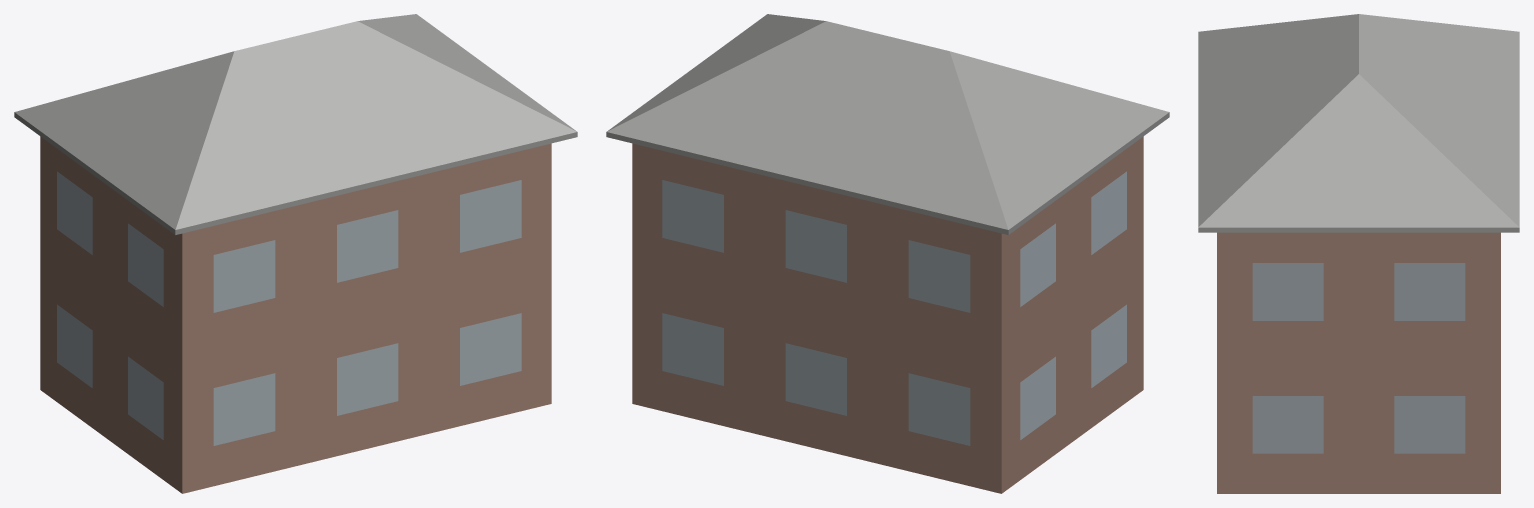
The model's file is 10_traditional_houses-06.glb.
3 renders of one model, left to right at view 1: azimuth 30°, elevation 25°; view 2: azimuth 150°, elevation 25°; view 3: azimuth 270°, elevation 25°, orthographic.
Size of the model in its own units: 9.8 by 8.4 by 6.8.
